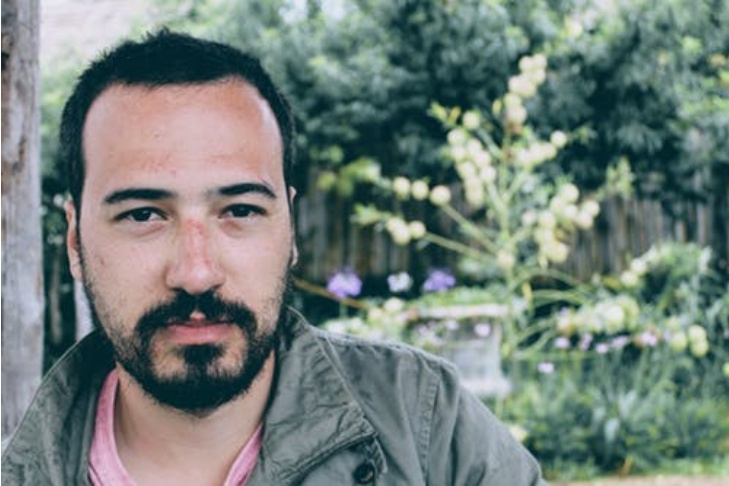face: (76, 83, 280, 396)
